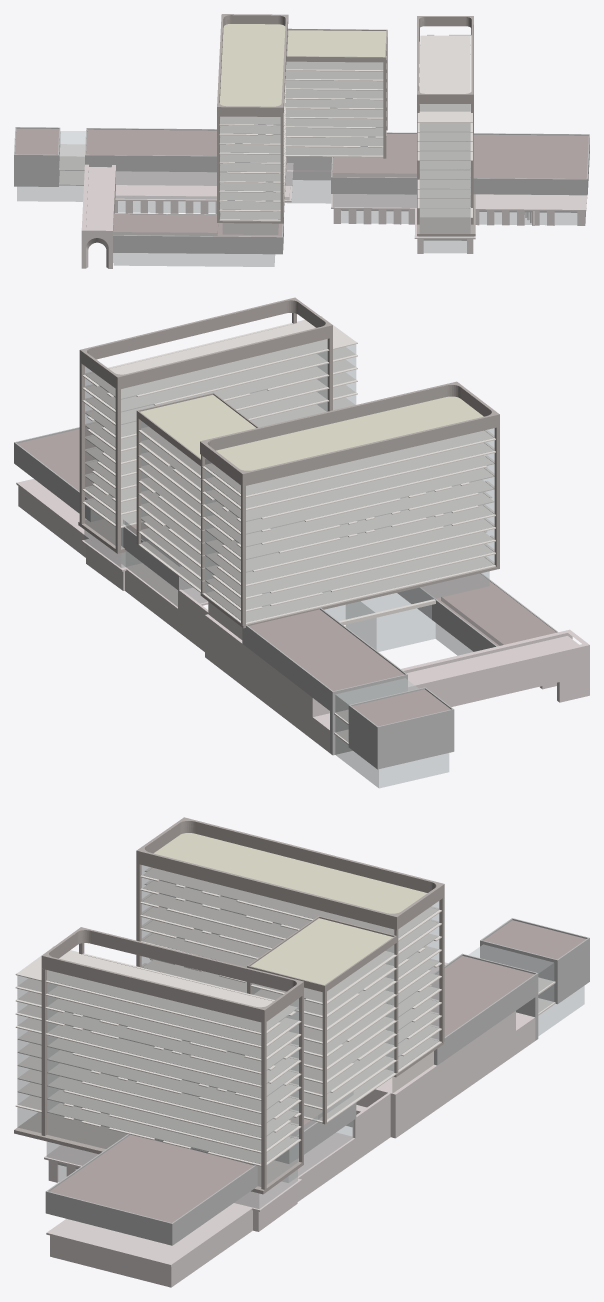
Rendered from l-building.gltf.
3 renders of one model, top to bottom at view 1: azimuth 30°, elevation 25°; view 2: azimuth 150°, elevation 25°; view 3: azimuth 270°, elevation 25°, orthographic. The views are drawn at different scales.
Size of the model in its own units: 155 by 50.96 by 119.
